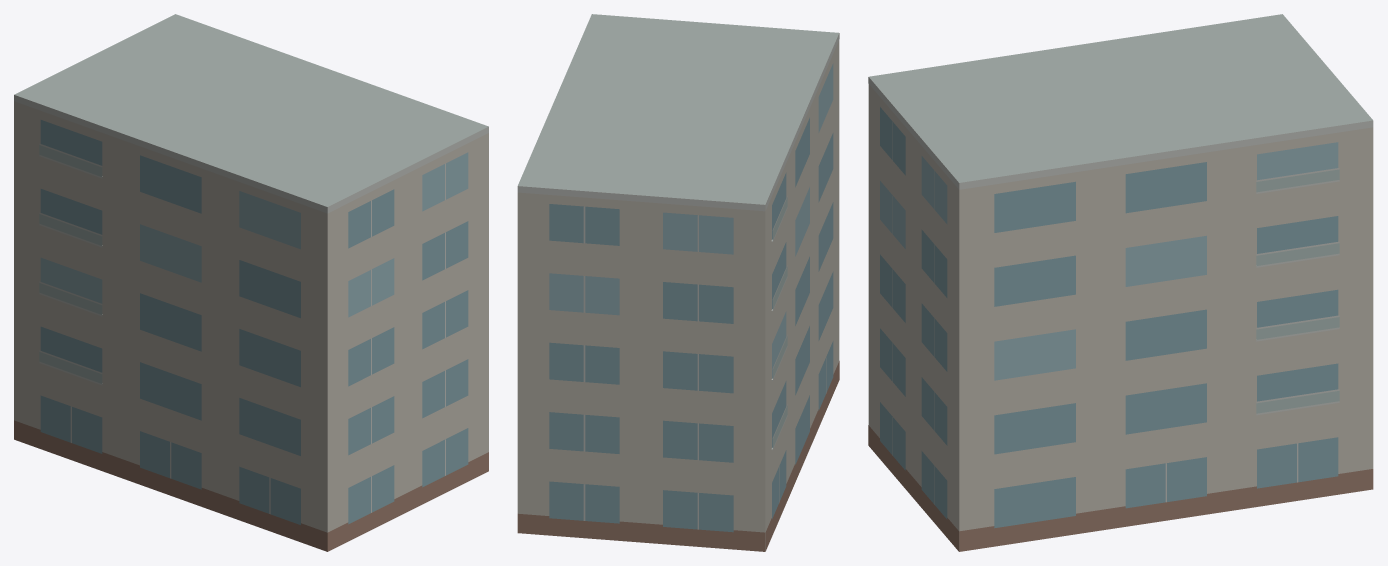
Rendered from survey-upis-32774811.glb.
The picture shows the model from 3 angles, left to right: view 1: azimuth 30°, elevation 25°; view 2: azimuth 150°, elevation 25°; view 3: azimuth 270°, elevation 25°; orthographic projection. The views are drawn at different scales.
Parts seen in each view (by area): view 1: survey-upis-32774811.tmp; view 2: survey-upis-32774811.tmp; view 3: survey-upis-32774811.tmp.
Boxes of the visible parts, x1,y1,x2,y2 form: survey-upis-32774811.tmp: [14, 14, 488, 551]; survey-upis-32774811.tmp: [517, 14, 839, 551]; survey-upis-32774811.tmp: [868, 14, 1373, 551].
Size of the model in its own units: 12.88 by 13.1 by 16.26.
